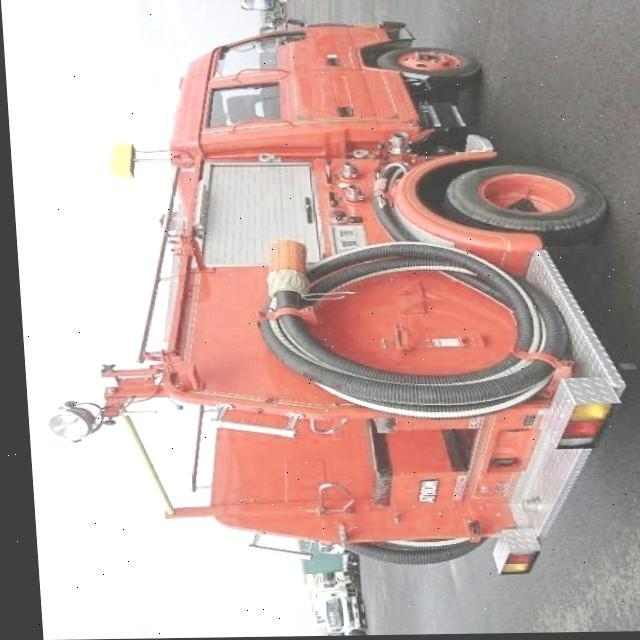truck: (9, 0, 632, 581)
